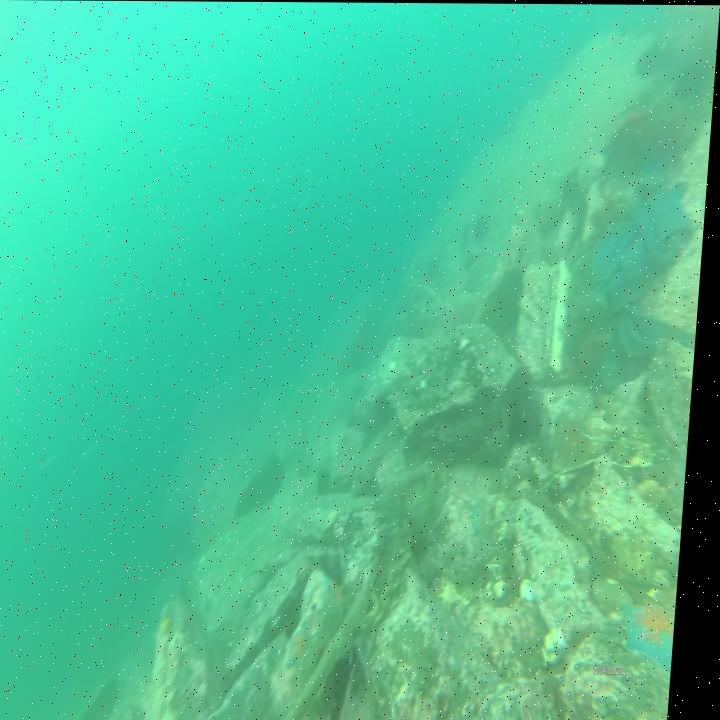echinus: (565, 412, 598, 466)
starfish: (623, 597, 685, 671), (294, 625, 326, 664), (333, 570, 357, 612)
